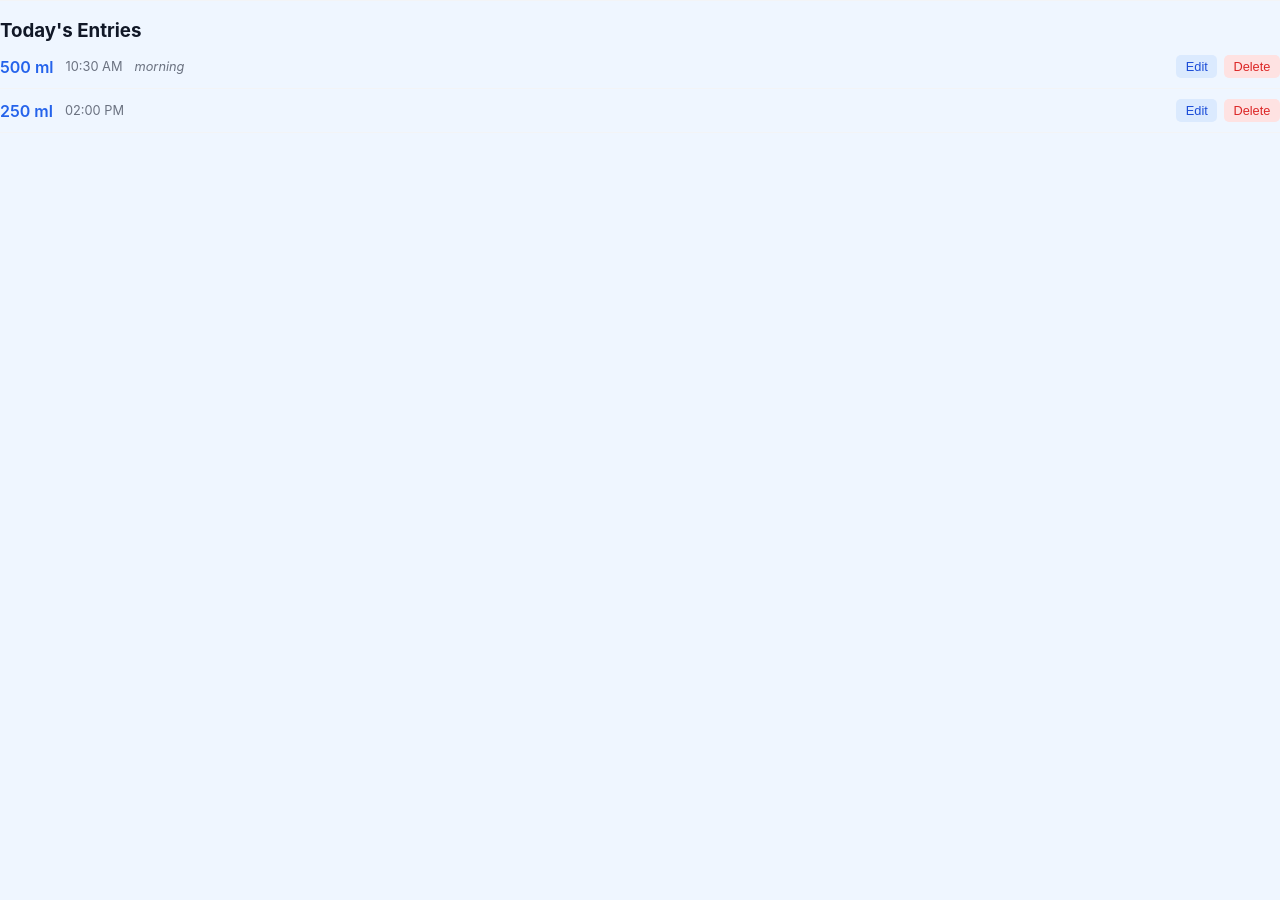
Scenario: EntryList › closes modal without deleting when Cancel is clicked
Click the button "Delete" in the row of "morning": point(1252, 67) 1224,55 -> 1279,78
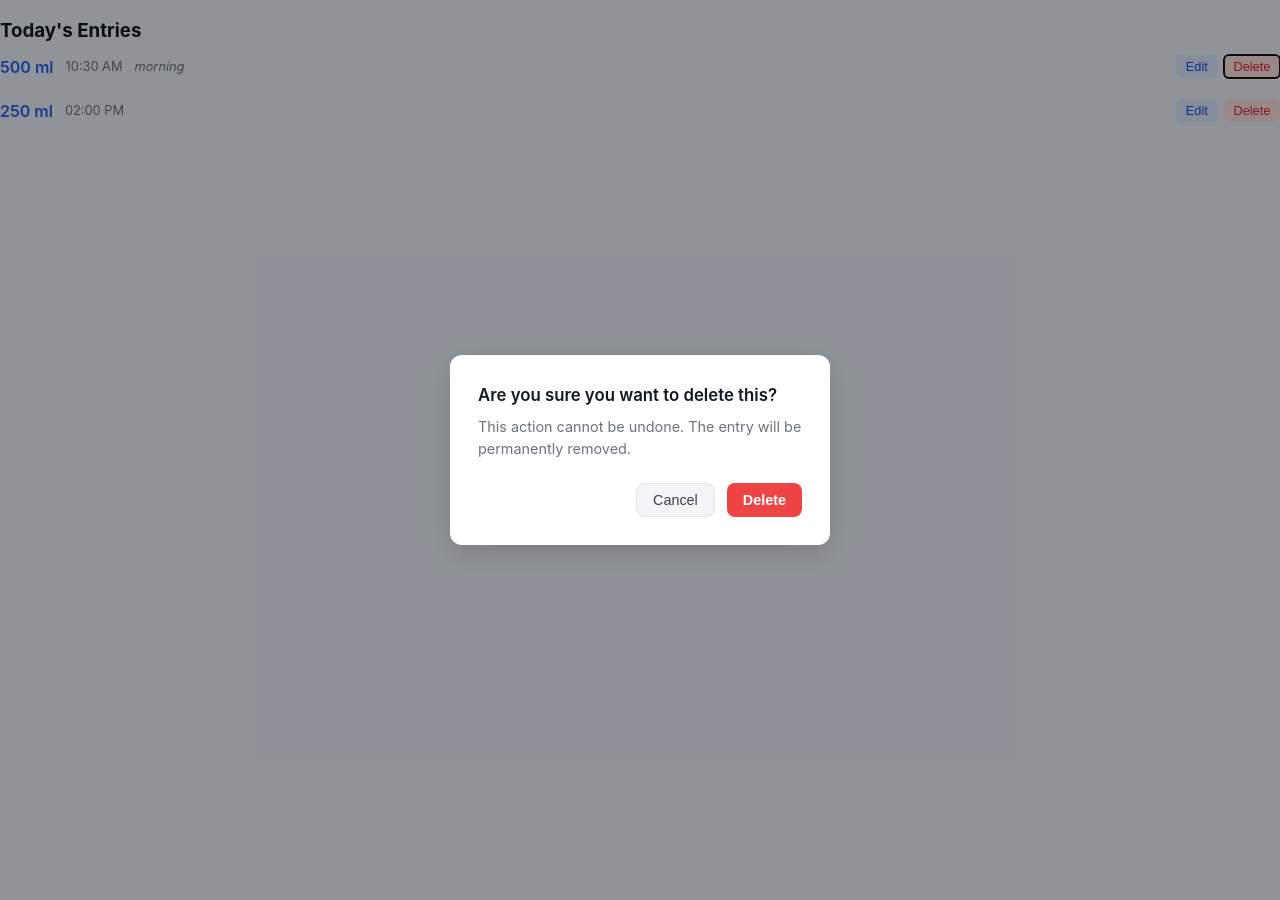
Expected: the dialog is shown, 450,355 -> 830,545
Click the button with class "modal-cancel-btn": point(675, 500) 636,483 -> 715,517
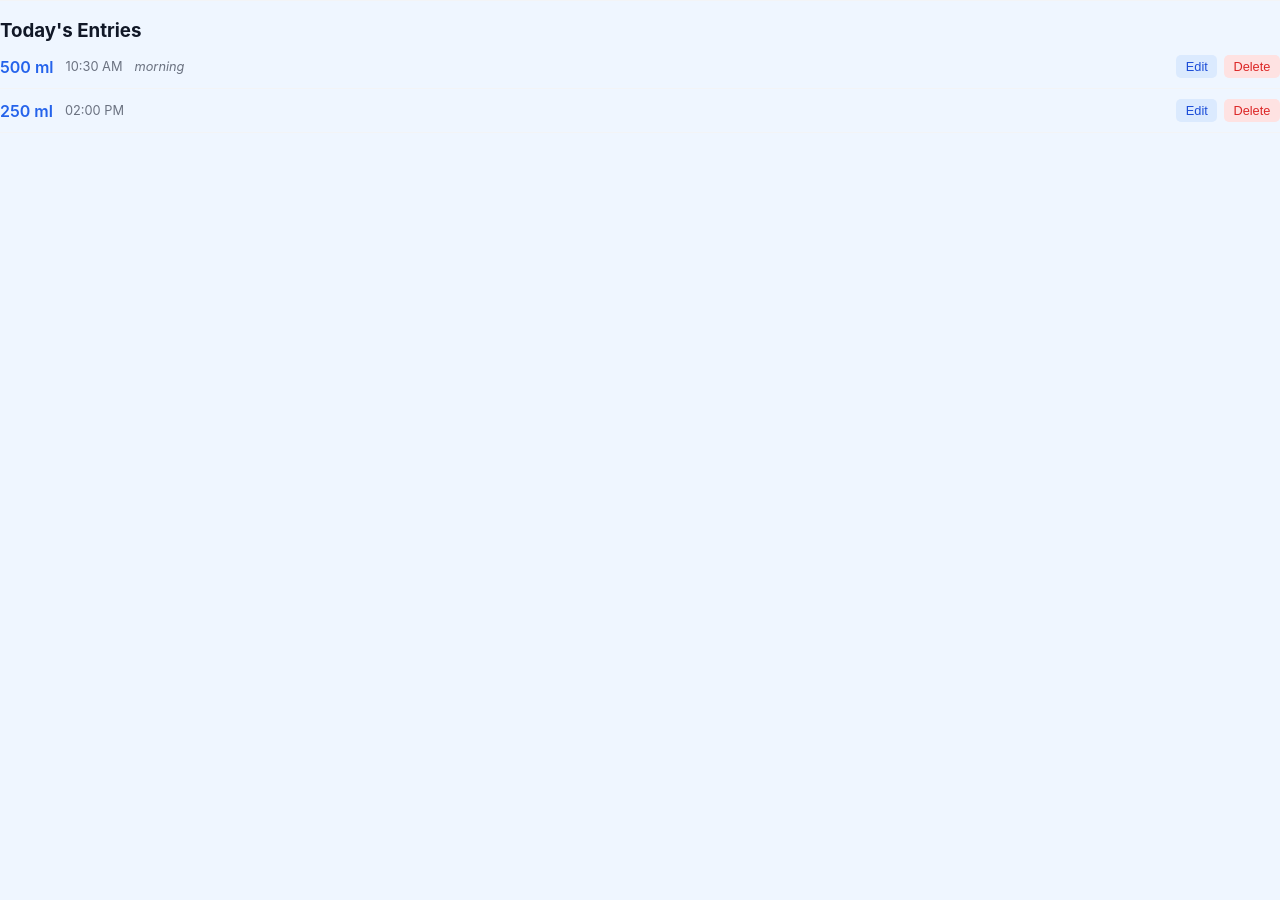
Expected: the dialog is gone
